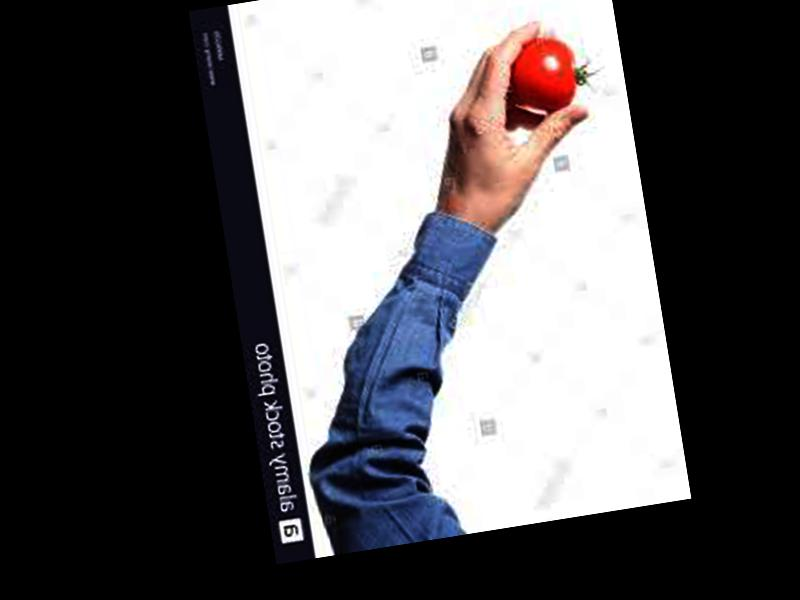Tomato: (507, 32, 579, 114)
